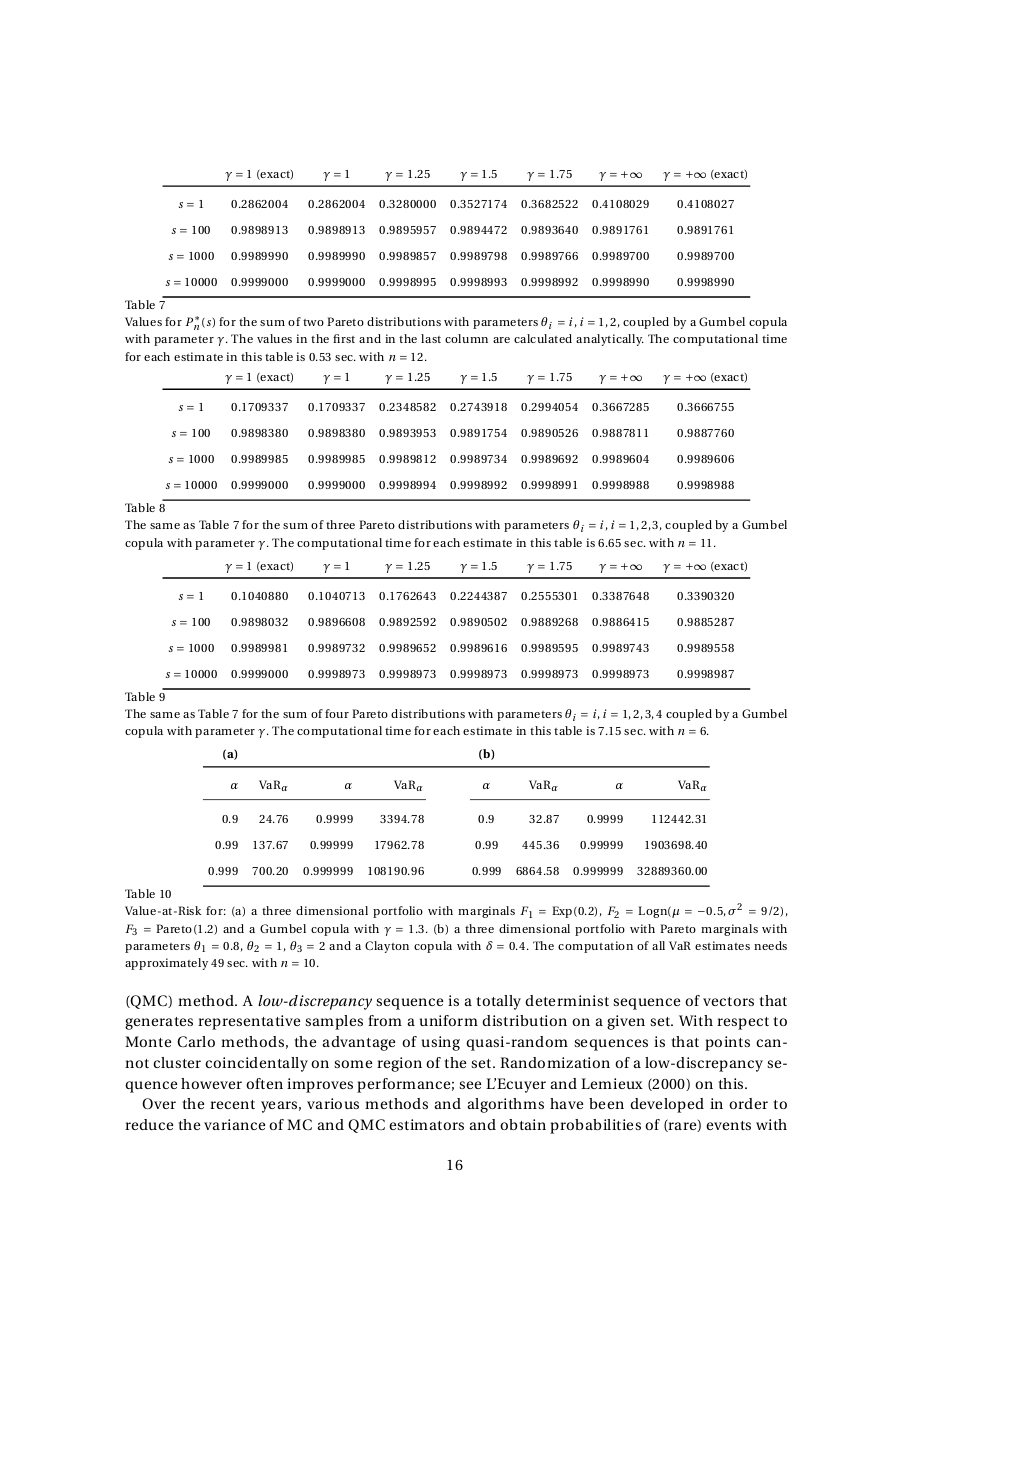Table: (125, 169, 751, 309), (125, 372, 751, 512), (125, 561, 751, 701), (125, 749, 709, 898)
